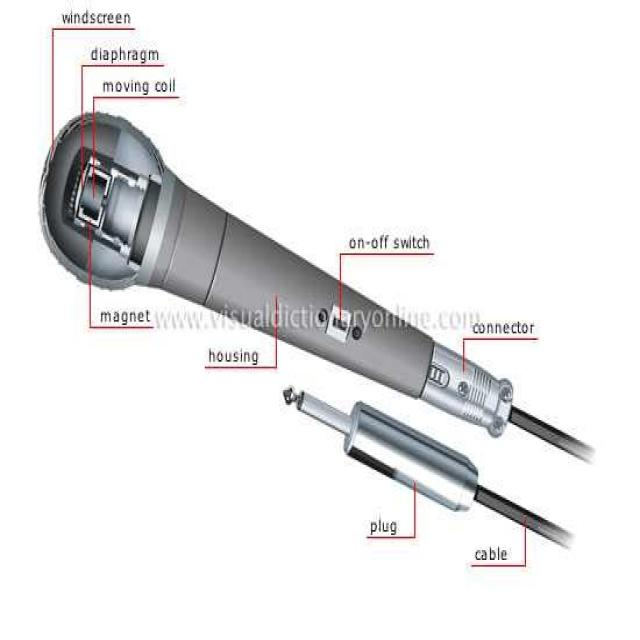microphone: (48, 119, 516, 445)
